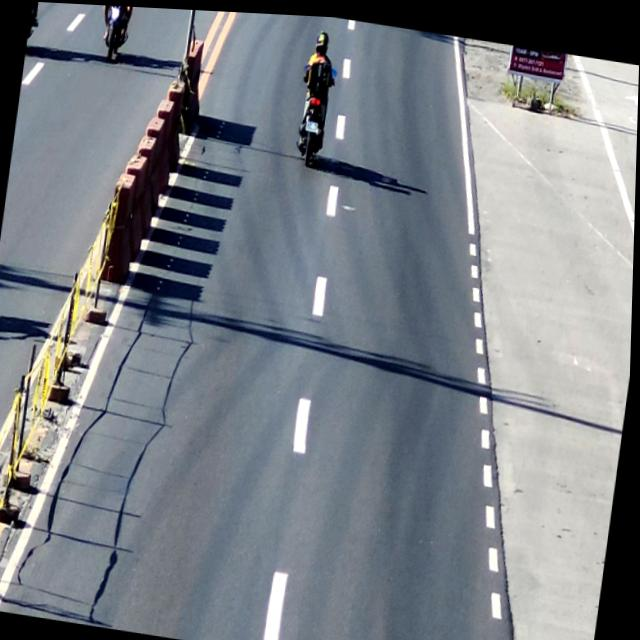License-Plate: (304, 115, 321, 132)
Motorcycle: (291, 28, 345, 169)
